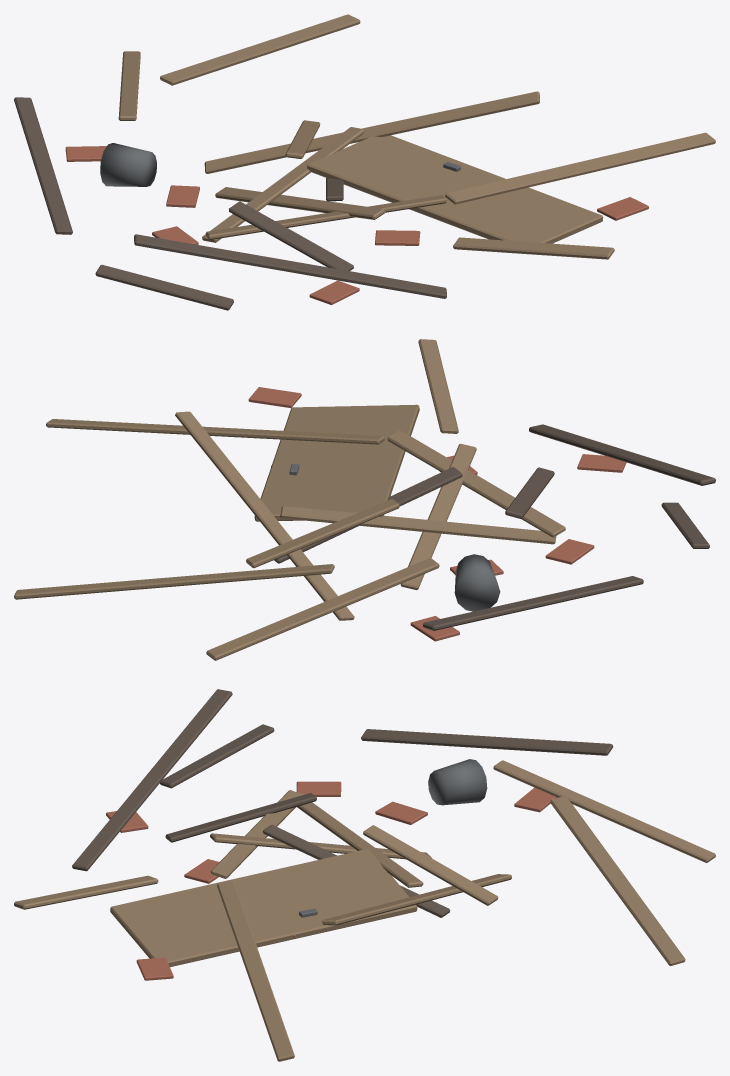
File: v_debris.glb
The picture shows the model from 3 angles, top to bottom: view 1: azimuth 30°, elevation 25°; view 2: azimuth 150°, elevation 25°; view 3: azimuth 270°, elevation 25°; orthographic projection. The views are drawn at different scales.
Visible parts, largest first — view 1: Debris; view 2: Debris; view 3: Debris.
Part boxes in pixels (x1,y1,x2,y2): Debris: [14, 14, 715, 310]; Debris: [14, 339, 715, 660]; Debris: [14, 689, 715, 1061].
Size of the model in its own units: 4.92 by 0.6517 by 4.74.
